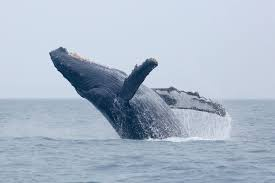humpback: (48, 47, 190, 138)
